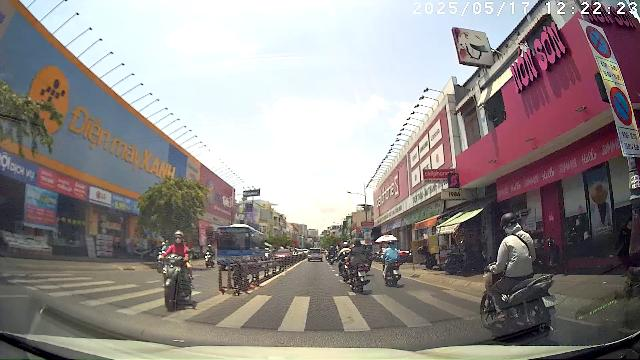130-cam-dung-va-do-xe: (586, 24, 612, 59)
131a-cam-do-xe: (609, 85, 633, 126)
